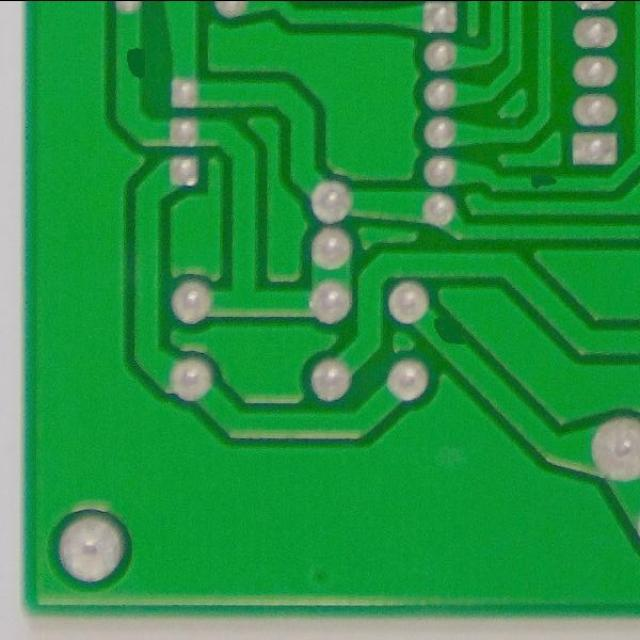MouseBite: (421, 307, 479, 366), (113, 38, 150, 88), (516, 170, 569, 196)
